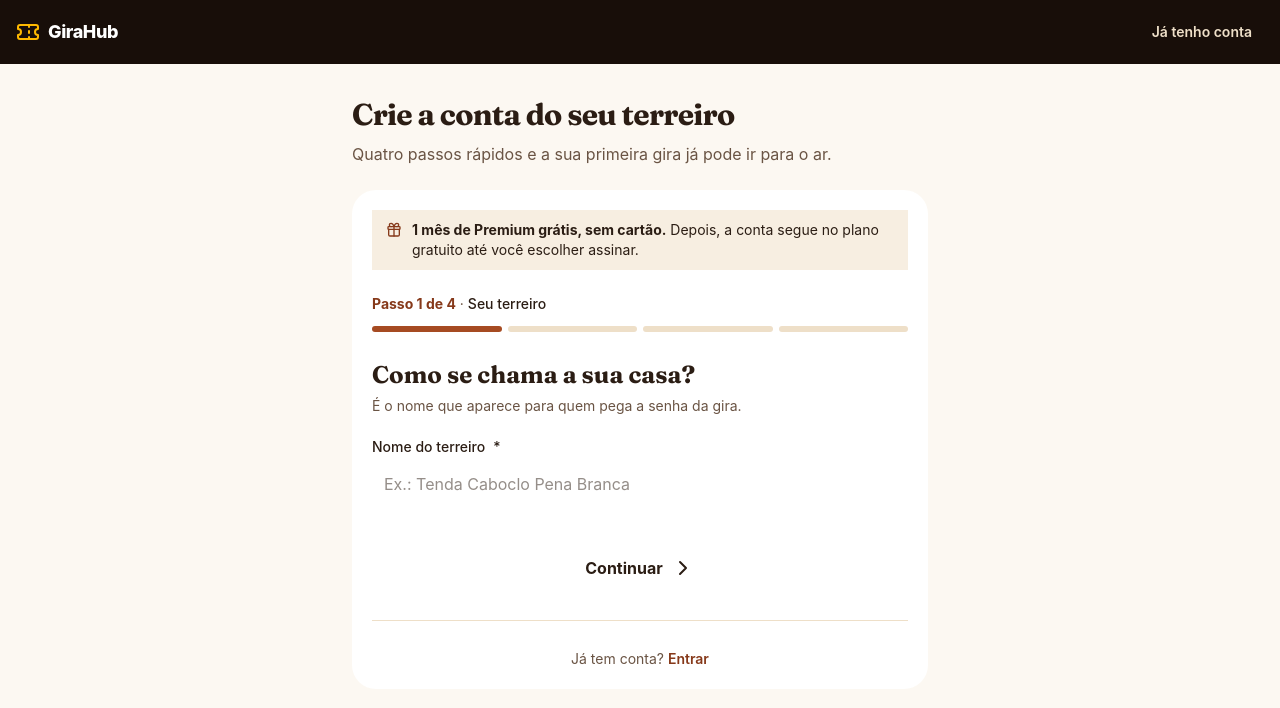
Scenario: Cadastro em passos › valida só o passo atual: erro ao tentar avançar, some ao corrigir
The image size is (1280, 708).
Click the button "Continuar" at (640, 568), box [372,544,908,592]
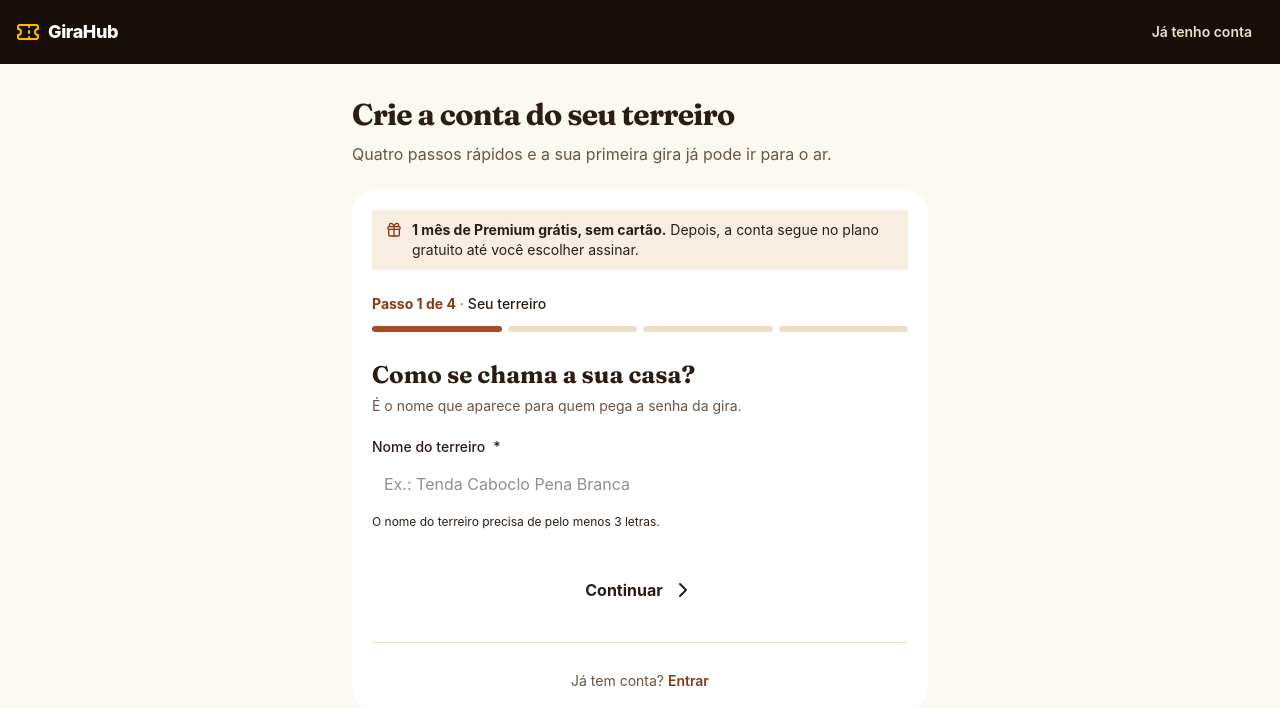
Check: the text "Passo 1 de 4" is shown, box [372,294,456,312]
Check: the text "O nome do terreiro precisa de pelo menos 3 letras." is shown, box [372,514,660,528]
Type "Casa Nova" into the field labelled "Nome do terreiro *" at (640, 484), box [372,460,908,508]
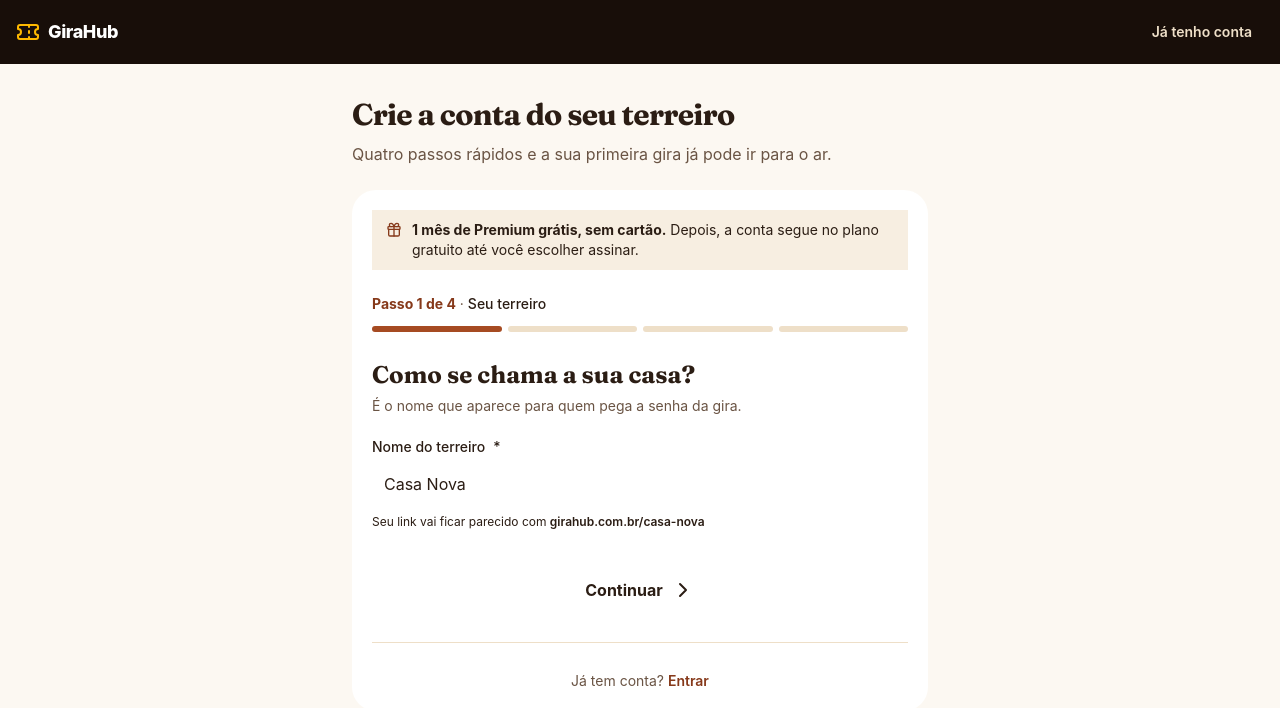
Check: the text "pelo menos 3 letras" is gone
Click the button "Continuar" at (640, 590), box [372,566,908,614]
(page scrolled)
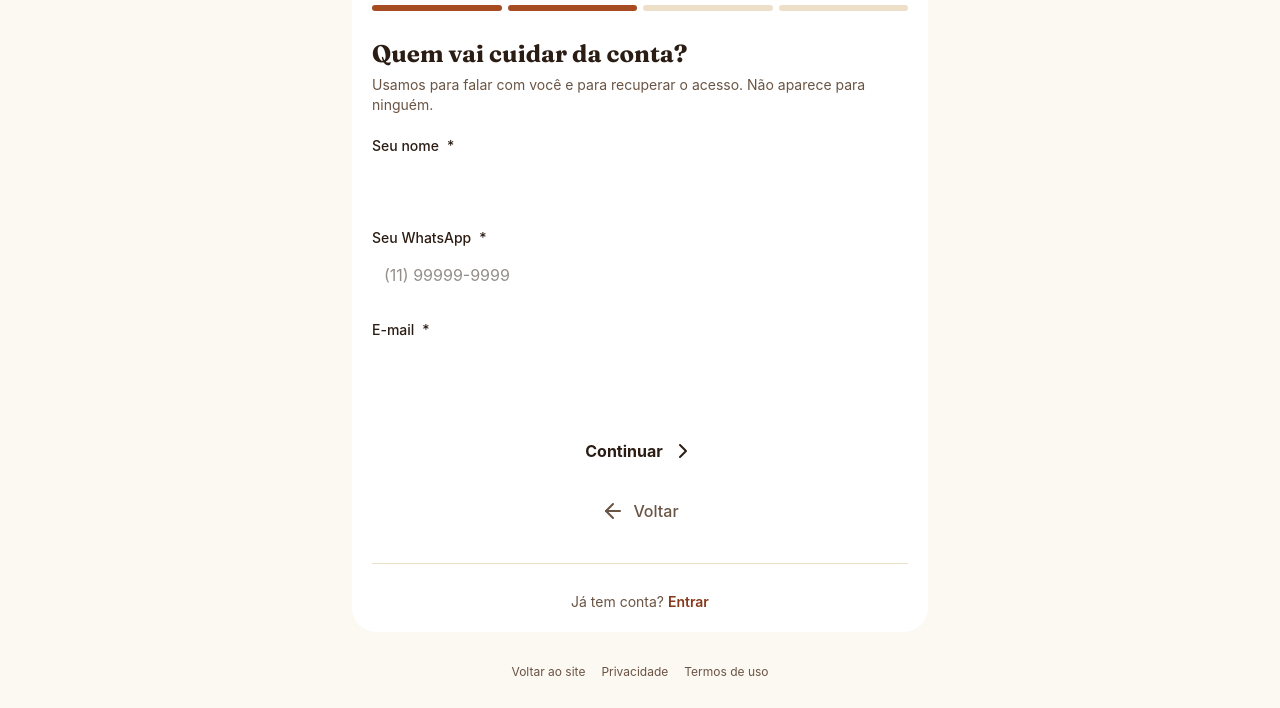
Check: the text "Informe seu nome." is not shown
Click the button "Continuar" at (640, 450), box [372,426,908,474]
(page scrolled)
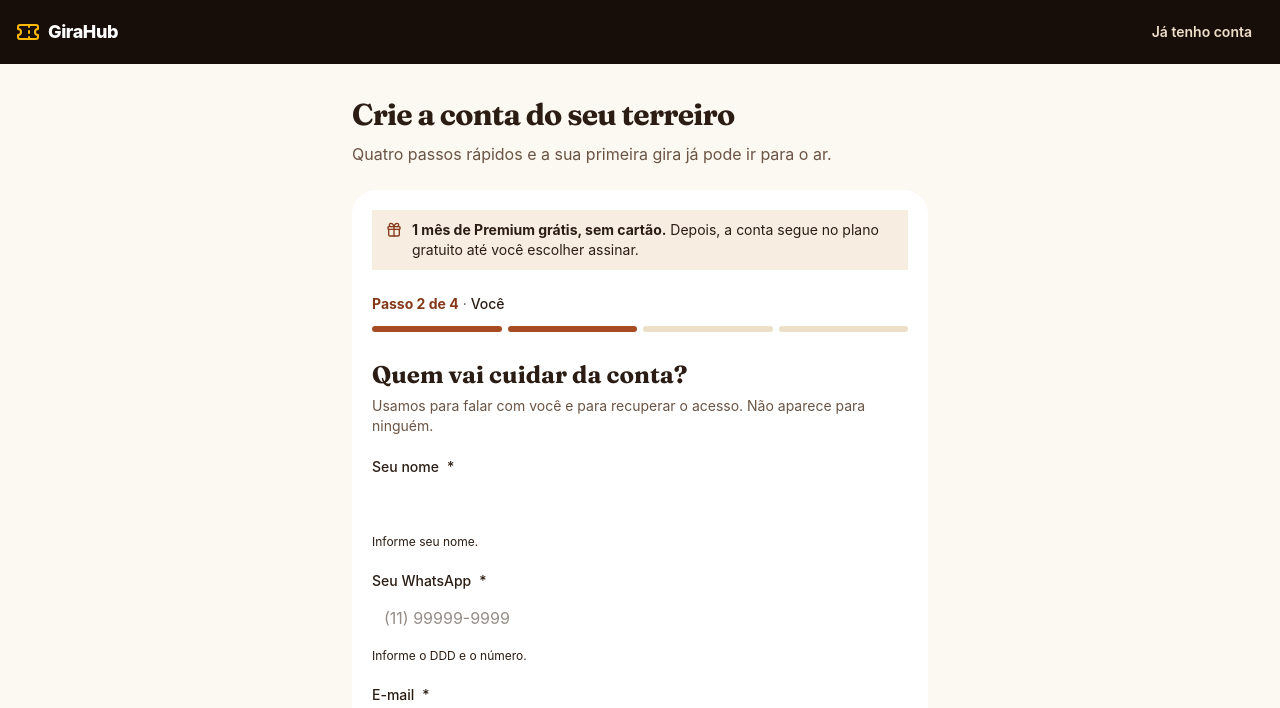
Check: the text "Passo 2 de 4" is shown, box [372,294,459,312]
Check: the text "Informe seu nome." is shown, box [372,534,478,548]
Check: the text "Informe o DDD e o número." is shown, box [372,648,527,662]
